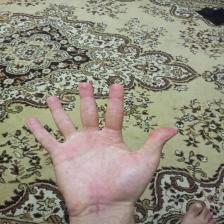five: (24, 78, 178, 218)
